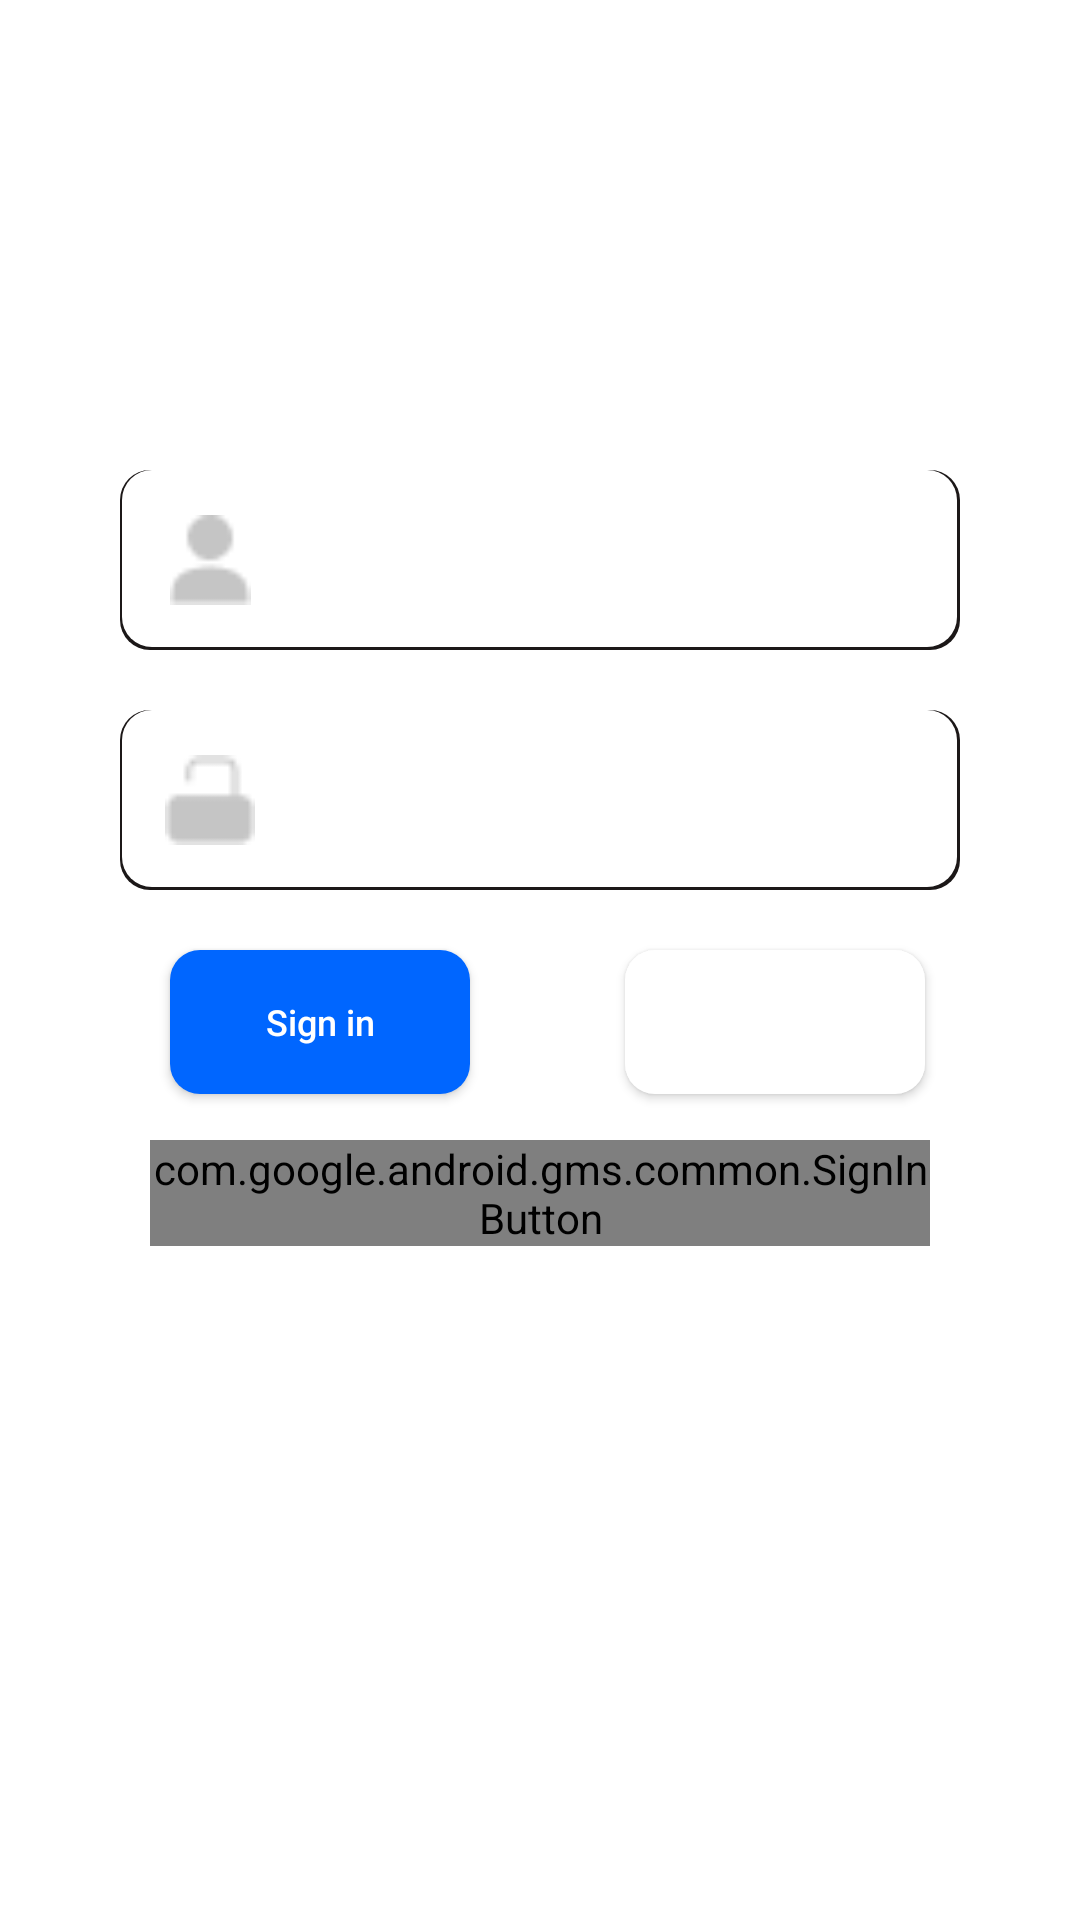

Screen size 1080w x 1920h. Icon name, then its box in pixels as Rect(x1, y1, x2, y2):
password: Rect(165, 755, 255, 845)
user: Rect(170, 515, 251, 605)
